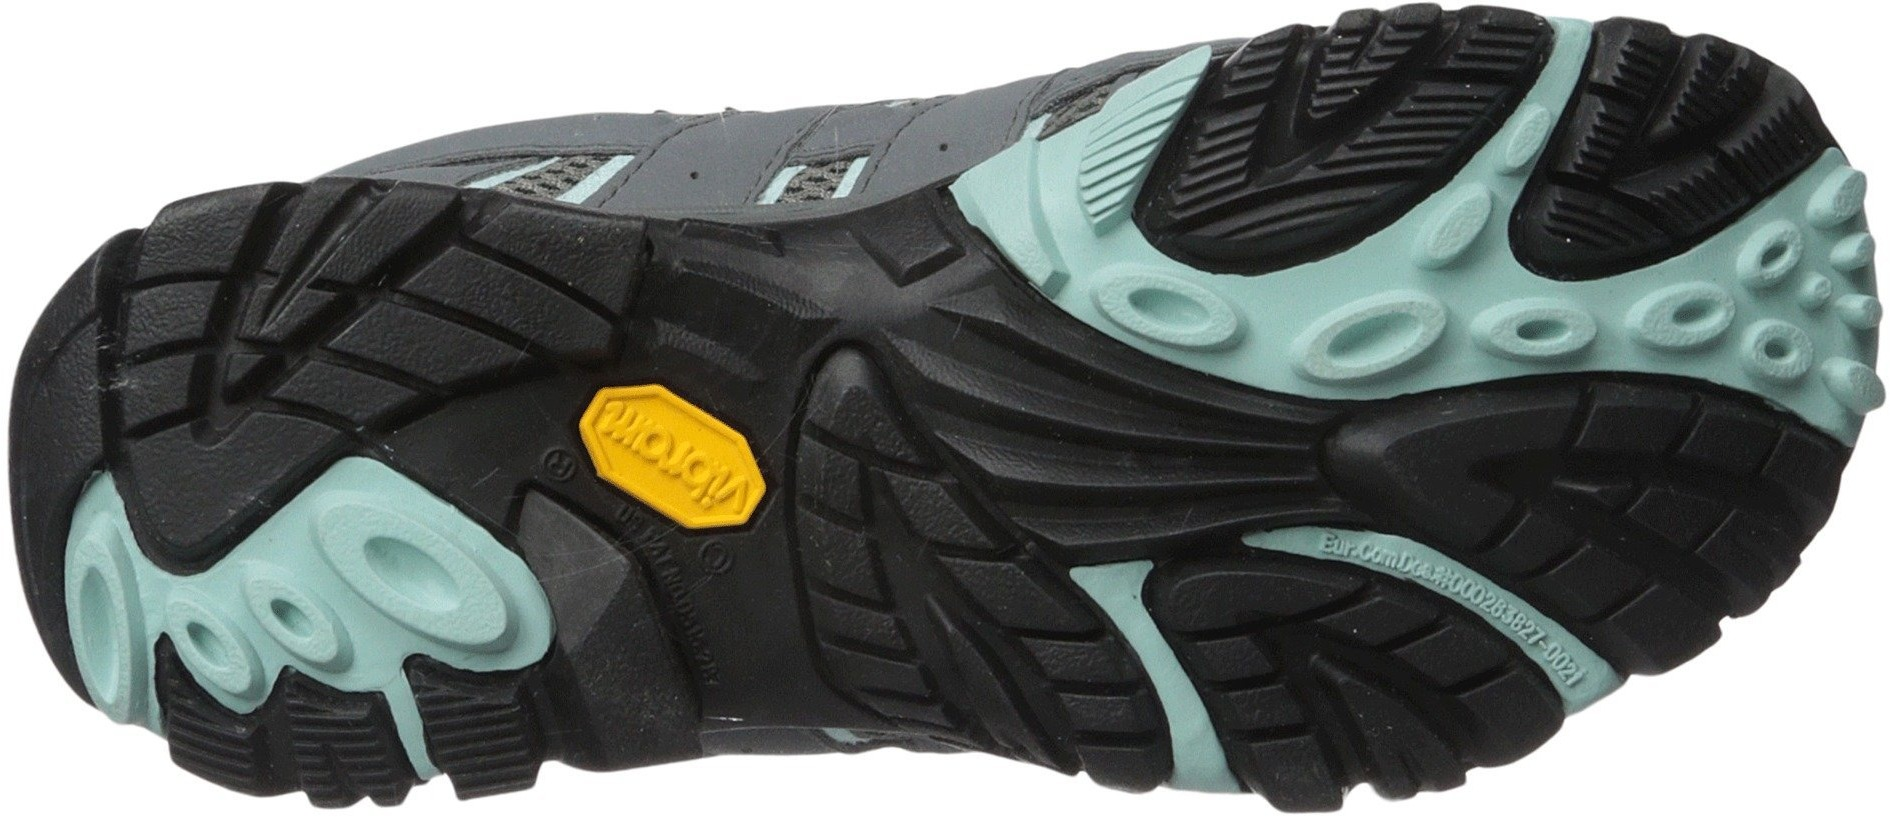circle: (254, 495, 479, 690), (1681, 208, 1870, 400), (1325, 247, 1515, 390)
line: (1188, 590, 1469, 805), (1291, 5, 1493, 196), (1655, 7, 1802, 165)
quad: (162, 195, 444, 443), (1188, 590, 1469, 805), (1571, 393, 1814, 639), (771, 434, 1012, 650), (1291, 5, 1493, 196), (1655, 7, 1802, 165)
text: (614, 401, 716, 515)
triangle: (1188, 590, 1469, 805), (1291, 5, 1493, 196), (1655, 7, 1802, 165)
